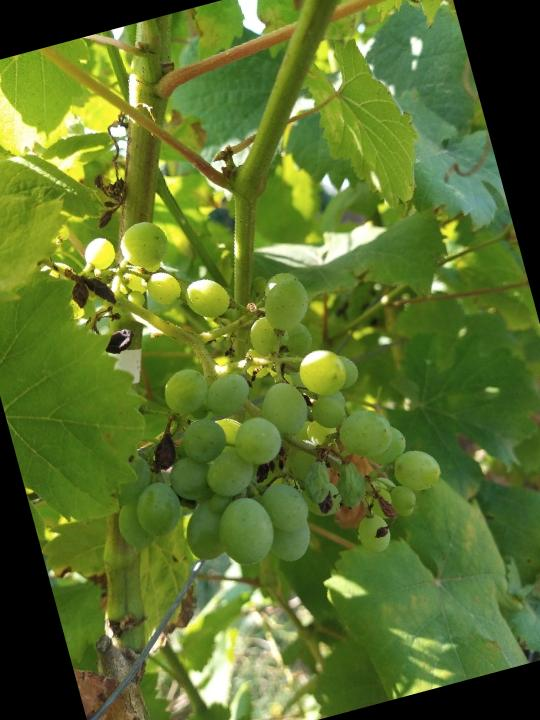grape: (35, 161, 462, 623)
